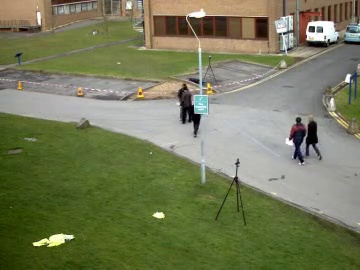person: (177, 84, 194, 127), (188, 100, 206, 138), (188, 102, 206, 138)
